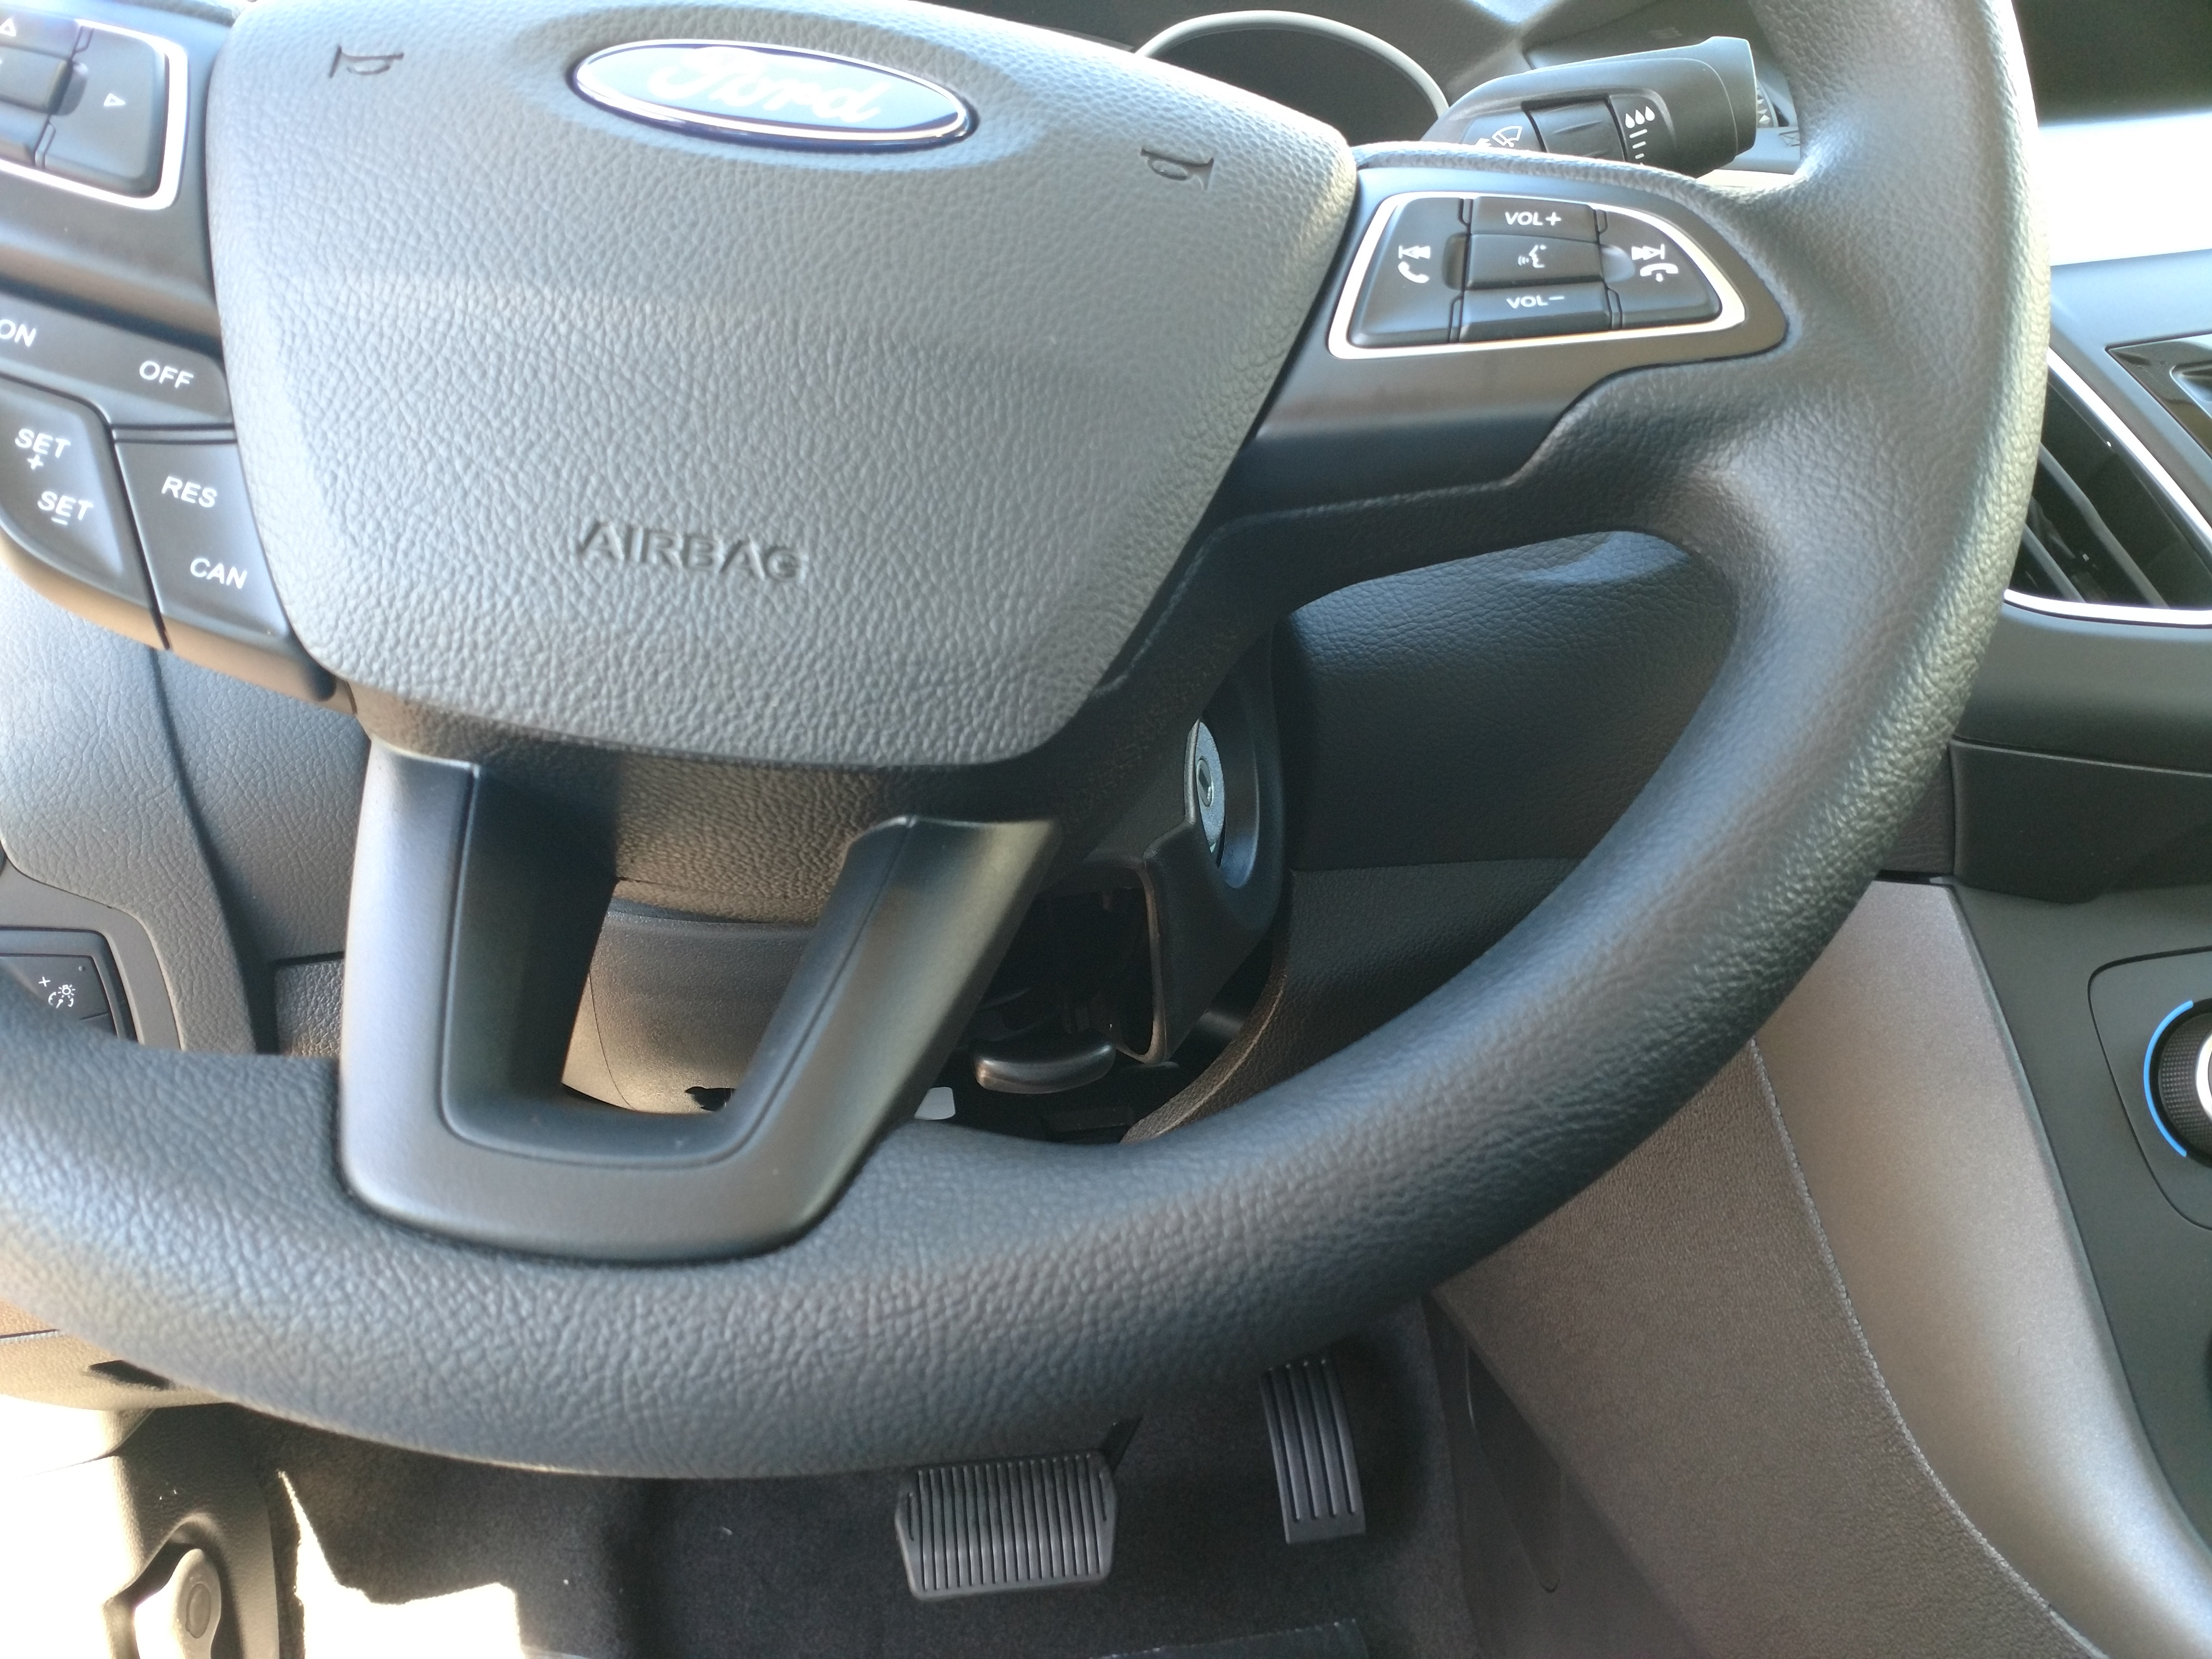Ford: (559, 23, 993, 166)
